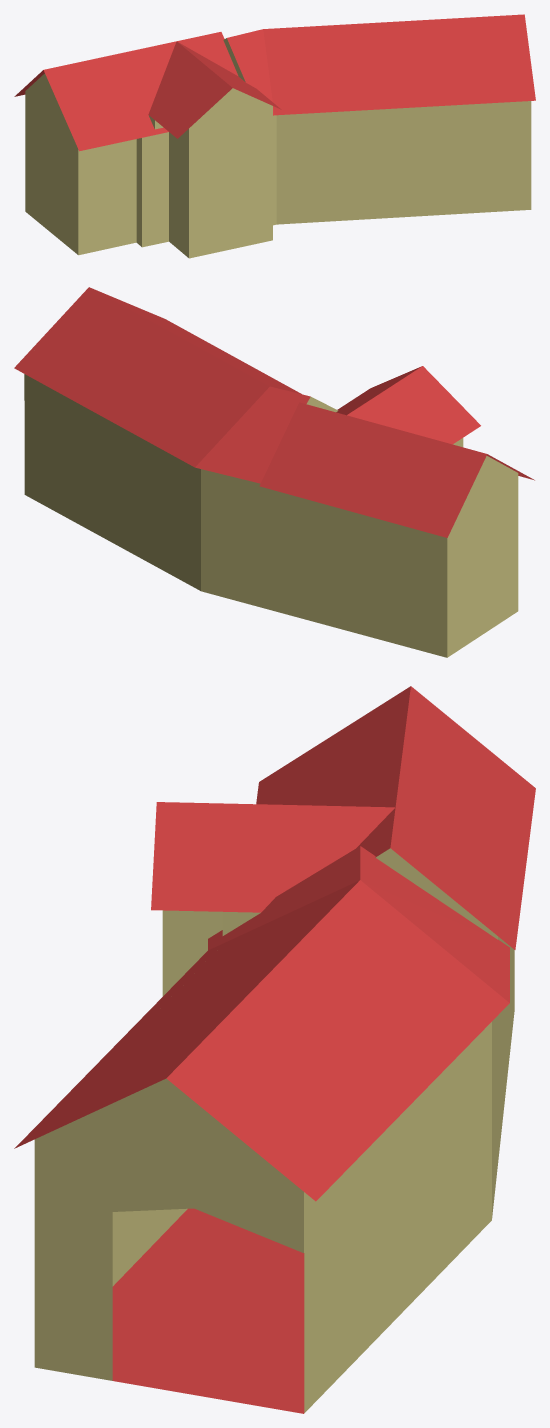
3 views of the same model, one above another, from view 1: azimuth 30°, elevation 25°; view 2: azimuth 150°, elevation 25°; view 3: azimuth 270°, elevation 25° (orthographic). The views are drawn at different scales.
Bounding box in the file's own units: 41.26 × 21.57 × 14.36.
